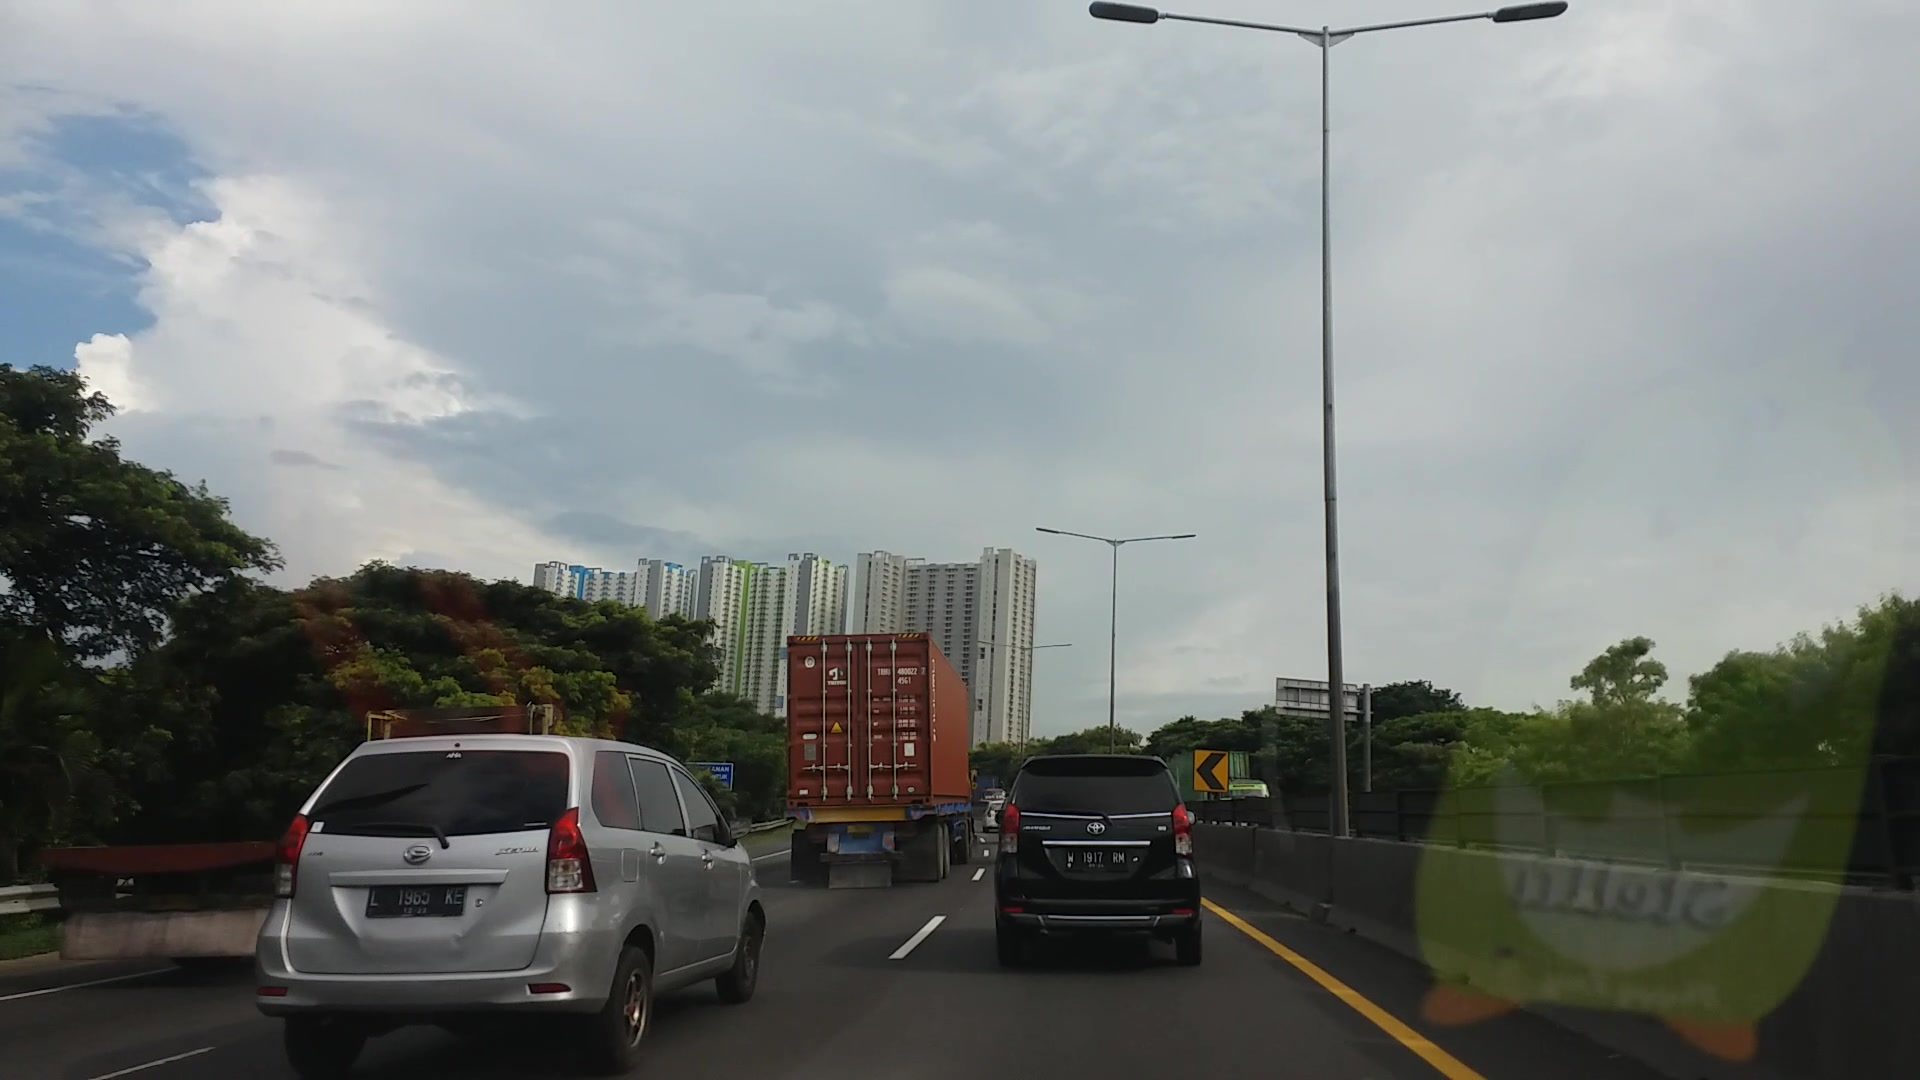plate_positive: (365, 885, 465, 916), (1065, 847, 1127, 872)
